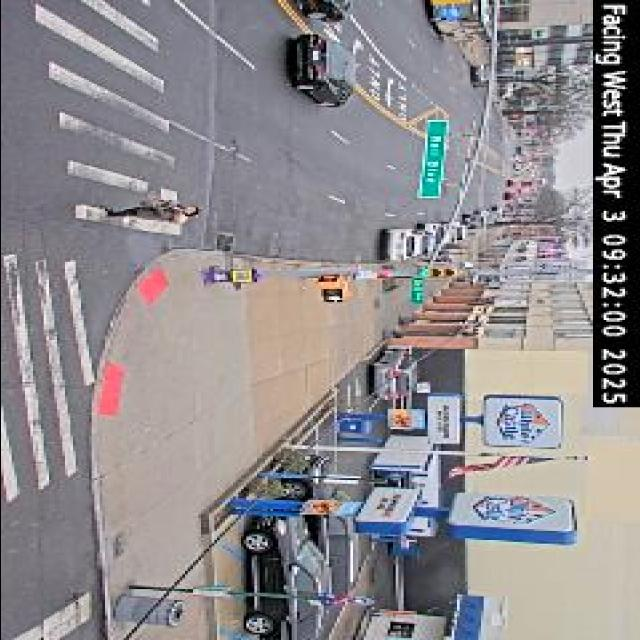open parking: (282, 228, 410, 262)
parkedCars: (385, 225, 477, 265)
